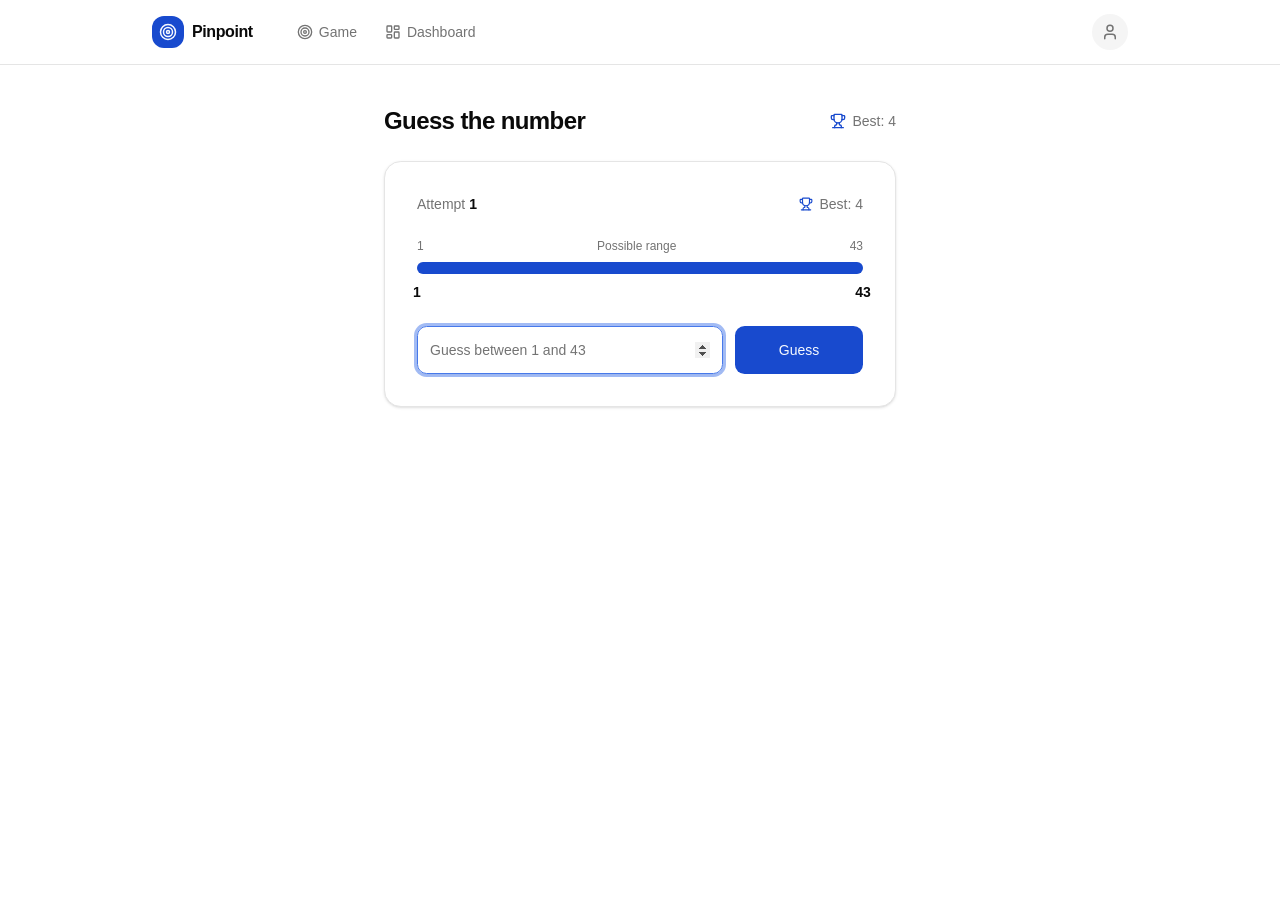
Test case: GamePage › handles a CORRECT guess and celebrates a new personal best
Type "20" into the number field with placeholder "Guess between 1 and 43" at {"x": 570, "y": 350}, box [417, 326, 723, 374]
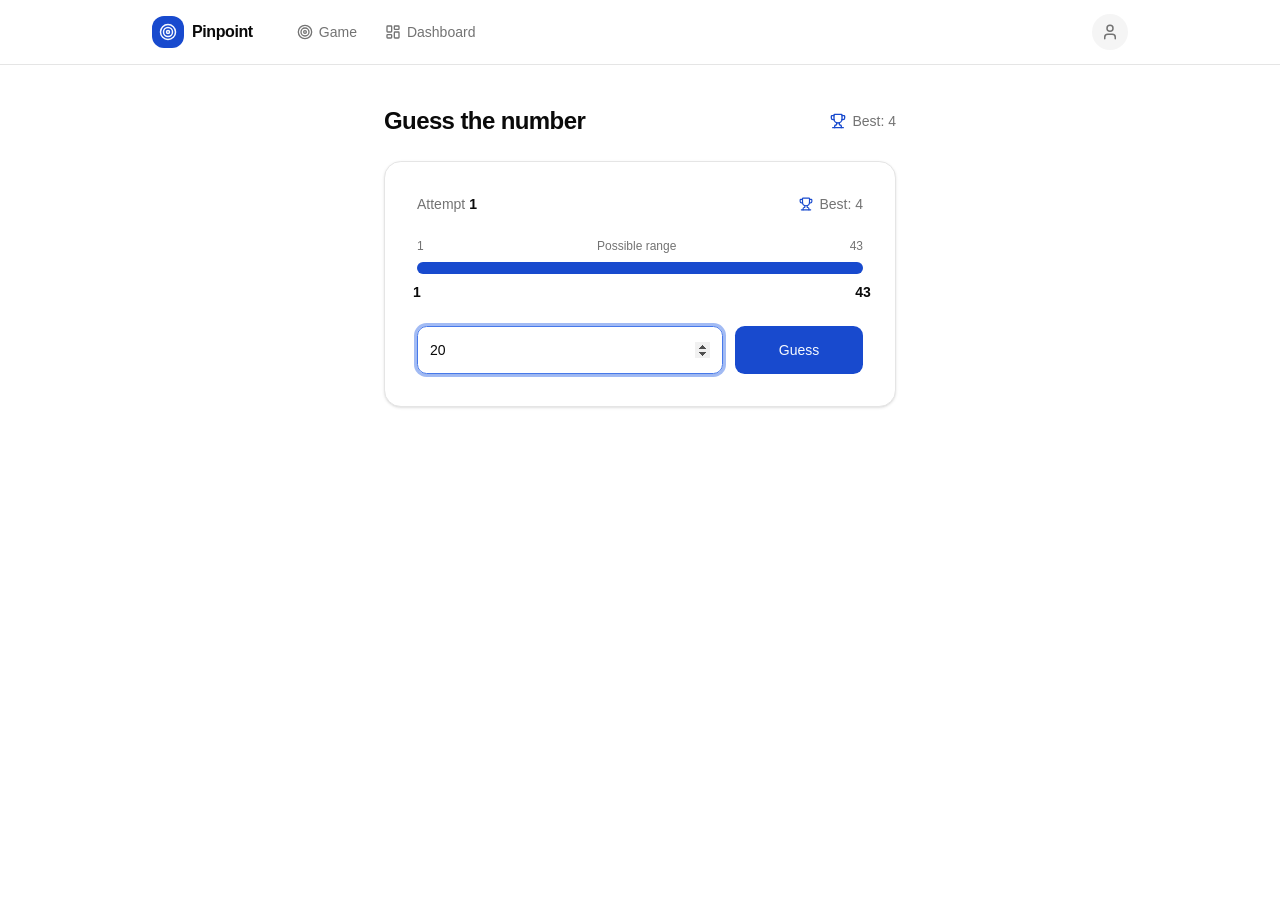
Click the button "Guess" at {"x": 799, "y": 350}, box [735, 326, 863, 374]
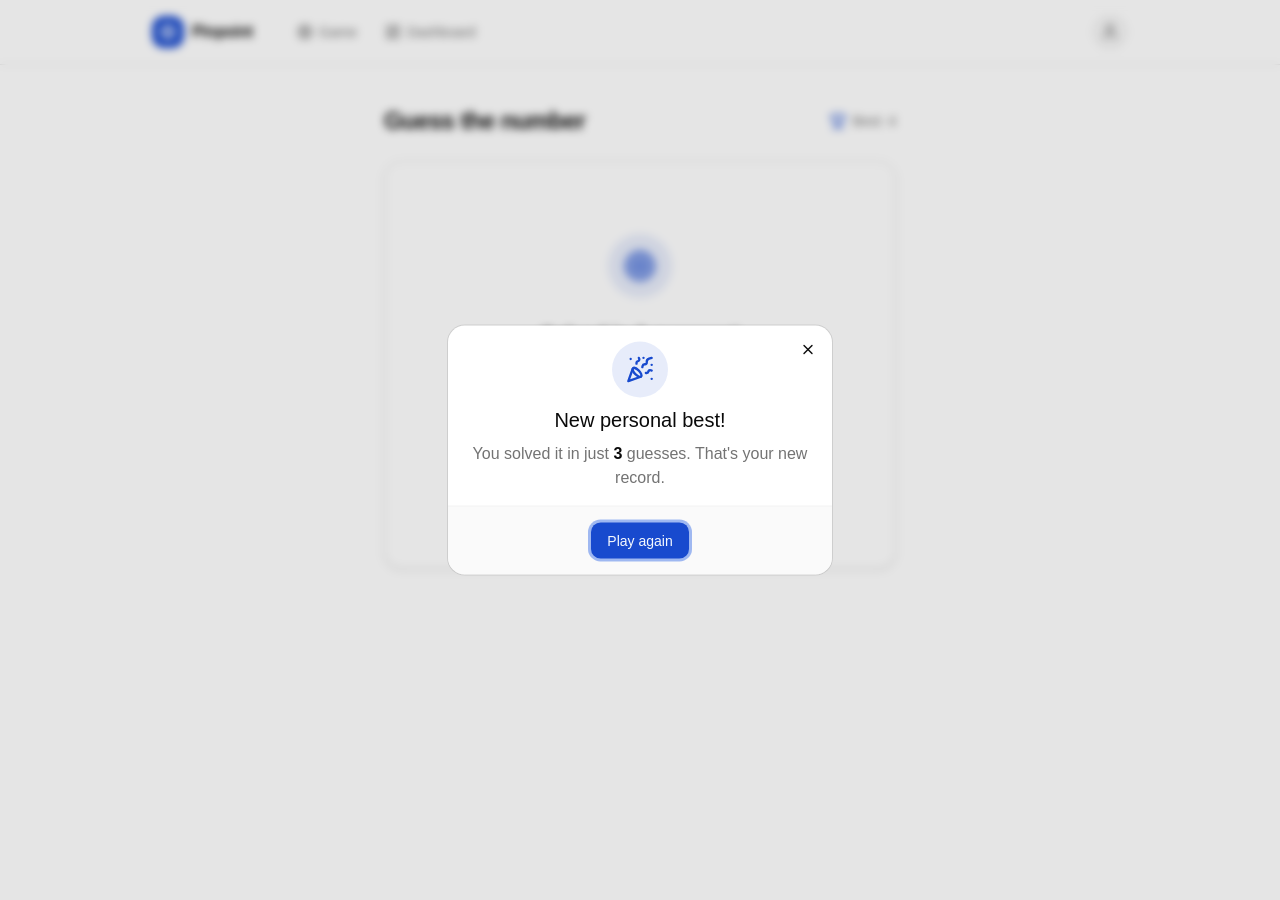
expect the heading "New personal best!" is shown: met, box [554, 406, 726, 434]
expect the text "You solved it in just 3 guesses. That's your new record." is shown: met, box [464, 442, 816, 490]
expect the text "3" is shown: met, box [613, 444, 622, 462]
